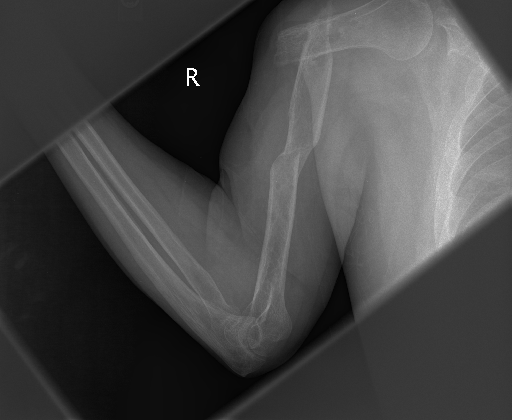fracture: (260, 124, 326, 198)
